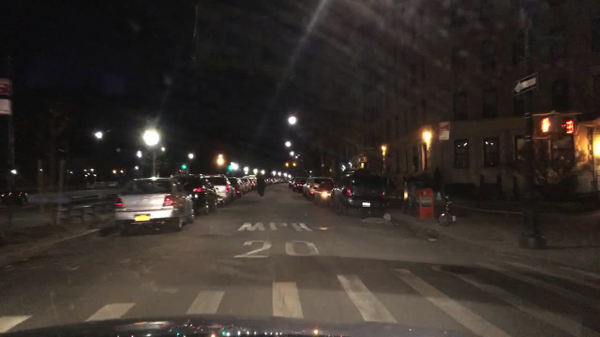bike: (437, 192, 457, 226)
car: (114, 178, 194, 237), (330, 169, 388, 217), (169, 173, 217, 214), (402, 185, 444, 213), (205, 175, 237, 206), (383, 177, 410, 211), (302, 177, 331, 198), (313, 182, 338, 205), (3, 189, 29, 206), (227, 177, 245, 198), (237, 178, 251, 193), (242, 176, 258, 189), (249, 175, 264, 186), (287, 176, 298, 190), (269, 176, 279, 184), (262, 177, 272, 185), (277, 176, 285, 184), (282, 177, 290, 184)
person: (255, 172, 266, 198), (433, 166, 444, 191)
traffic light: (177, 170, 189, 203), (289, 176, 312, 193), (420, 125, 433, 145), (214, 152, 224, 168), (540, 117, 550, 133), (564, 120, 573, 136), (291, 155, 299, 170), (380, 141, 387, 157), (226, 160, 234, 174), (285, 155, 291, 170), (181, 164, 188, 170)
traffic sign: (512, 72, 540, 97), (438, 121, 452, 141), (0, 99, 14, 116), (0, 78, 14, 94)
